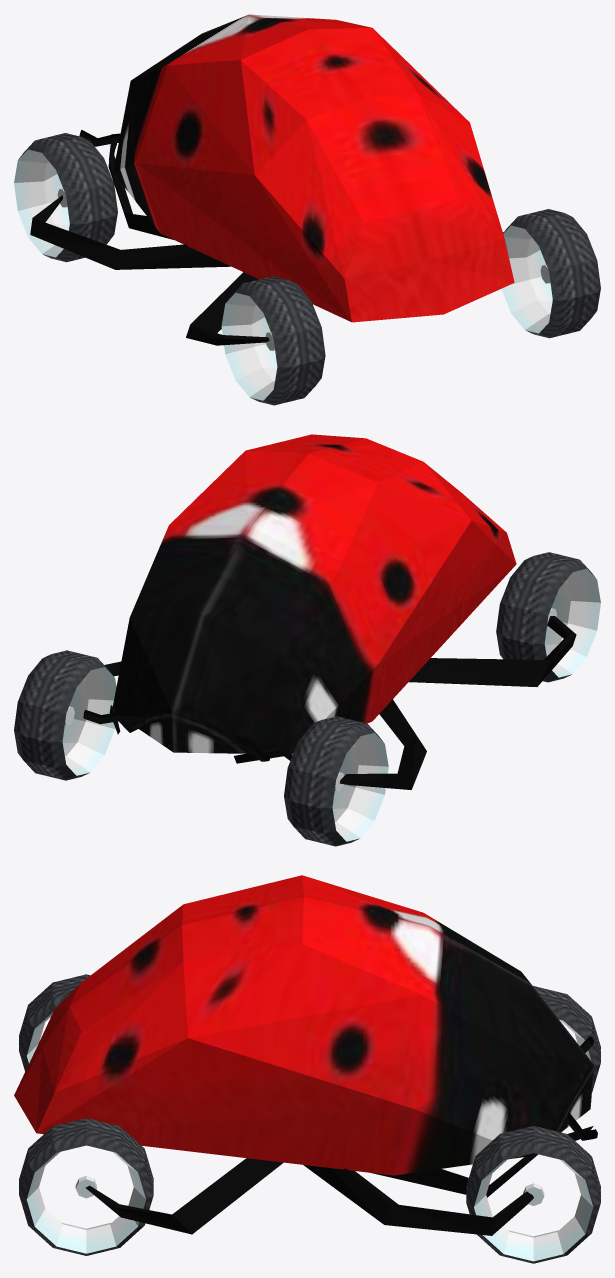
Rendered from ladybugshow.glb.
3 renders of one model, top to bottom at view 1: azimuth 30°, elevation 25°; view 2: azimuth 150°, elevation 25°; view 3: azimuth 270°, elevation 25°, orthographic. The views are drawn at different scales.
Parts seen in each view (by area): view 1: ZtoY, wheel_lr1, wheel_rr1, wheel_lf1, legs1; view 2: ZtoY, wheel_rf1, wheel_lf1, wheel_lr1, legs1; view 3: ZtoY, legs1, wheel_rr1, wheel_rf1, wheel_lr1, wheel_lf1.
Part boxes in pixels (left/top/right/bottom): ZtoY: left=79, top=14, right=514, bottom=322; wheel_lr1: left=221, top=276, right=325, bottom=405; wheel_rr1: left=501, top=209, right=600, bottom=338; wheel_lf1: left=14, top=133, right=117, bottom=262; legs1: left=30, top=134, right=503, bottom=345; ZtoY: left=83, top=434, right=516, bottom=761; wheel_rf1: left=14, top=650, right=116, bottom=780; wheel_lf1: left=284, top=716, right=388, bottom=846; wheel_lr1: left=496, top=552, right=600, bottom=682; legs1: left=104, top=616, right=576, bottom=789; ZtoY: left=14, top=875, right=597, bottom=1175; legs1: left=85, top=1126, right=593, bottom=1235; wheel_rr1: left=19, top=1118, right=153, bottom=1255; wheel_rf1: left=466, top=1125, right=600, bottom=1263; wheel_lr1: left=19, top=974, right=90, bottom=1071; wheel_lf1: left=533, top=986, right=600, bottom=1092.
Bounding box in the file's own units: 4.43 × 3 × 5.51.
Materials: 2 (2 with a texture image).
